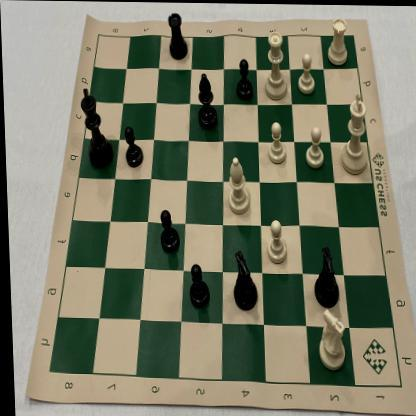black-bishop: (193, 67, 219, 132)
black-king: (77, 81, 114, 169)
black-knight: (309, 241, 343, 308), (228, 247, 258, 313)
black-pawn: (184, 258, 211, 311), (154, 206, 181, 257), (121, 122, 145, 170), (232, 52, 254, 102)
black-rook: (164, 7, 191, 63)
white-bishop: (224, 154, 251, 217)
white-king: (335, 89, 369, 177)
white-knight: (312, 304, 347, 373)
white-pawn: (262, 215, 288, 267), (264, 117, 289, 168), (302, 121, 324, 171), (295, 49, 317, 98)
white-queen: (260, 27, 288, 102)
white-rook: (323, 13, 353, 70)
